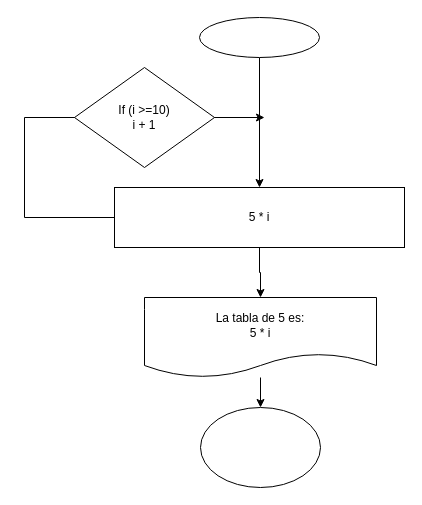
Some shapes in this 422 by 505 pixel diagram are drawn without their labels. The shapes that lost their labels are listed below. From the top down, each one's centre as x and y in pixels, then its label:
At point (259, 37): "Inicio".
At point (260, 447): "Fin".
